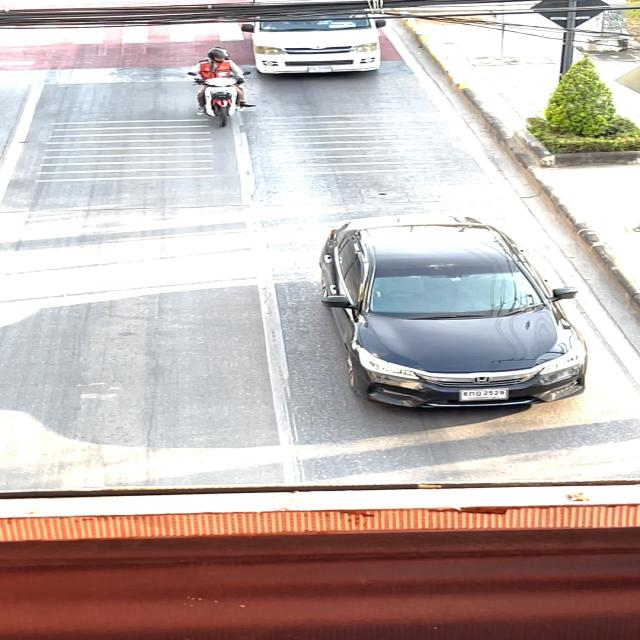car: (303, 208, 608, 424), (246, 0, 388, 86)
